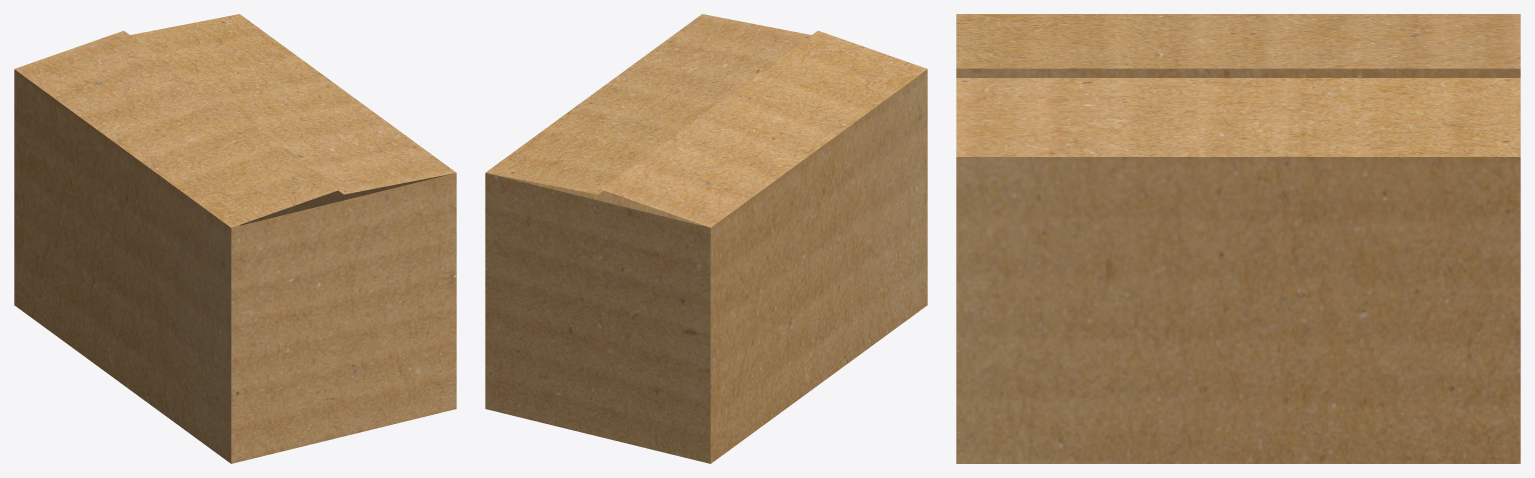
File: Kardus001.fbx
3 views of the same model, side by side, from view 1: azimuth 30°, elevation 25°; view 2: azimuth 150°, elevation 25°; view 3: azimuth 270°, elevation 25° (orthographic). The views are drawn at different scales.
Parts seen in each view (by area): view 1: Cardboard01; view 2: Cardboard01; view 3: Cardboard01.
Boxes of the visible parts, bbox=[...] form: Cardboard01: bbox=[14, 14, 456, 463]; Cardboard01: bbox=[485, 14, 927, 463]; Cardboard01: bbox=[956, 14, 1520, 463].
Bounding box in the file's own units: 0.5 × 0.3 × 0.3148.
